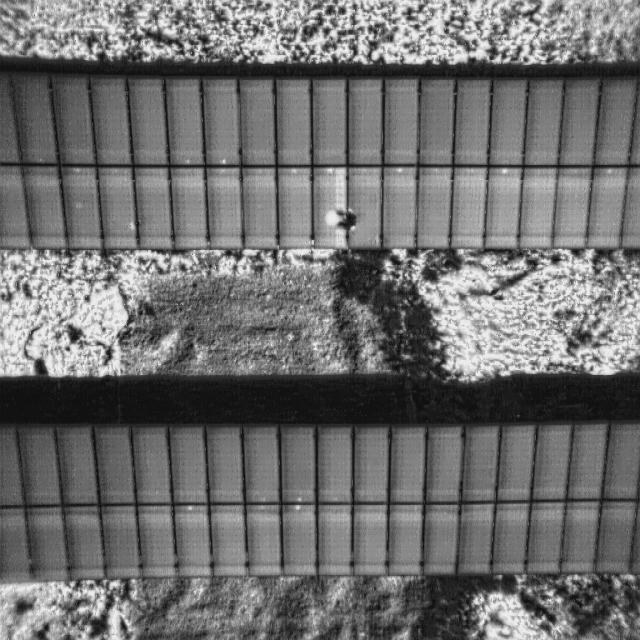diode: (314, 170, 350, 255)
hotspot: (292, 498, 304, 512)
